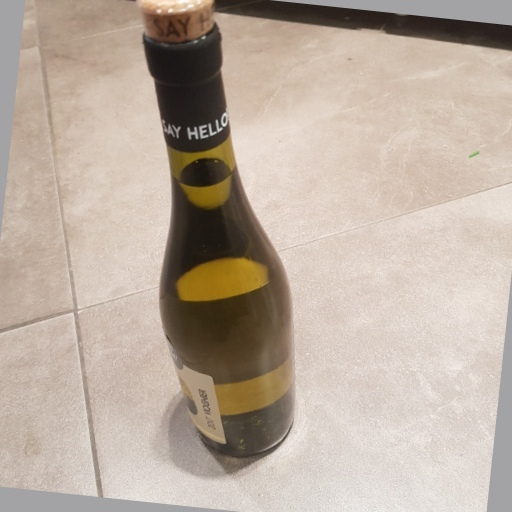Glass_2: (136, 4, 308, 462)
